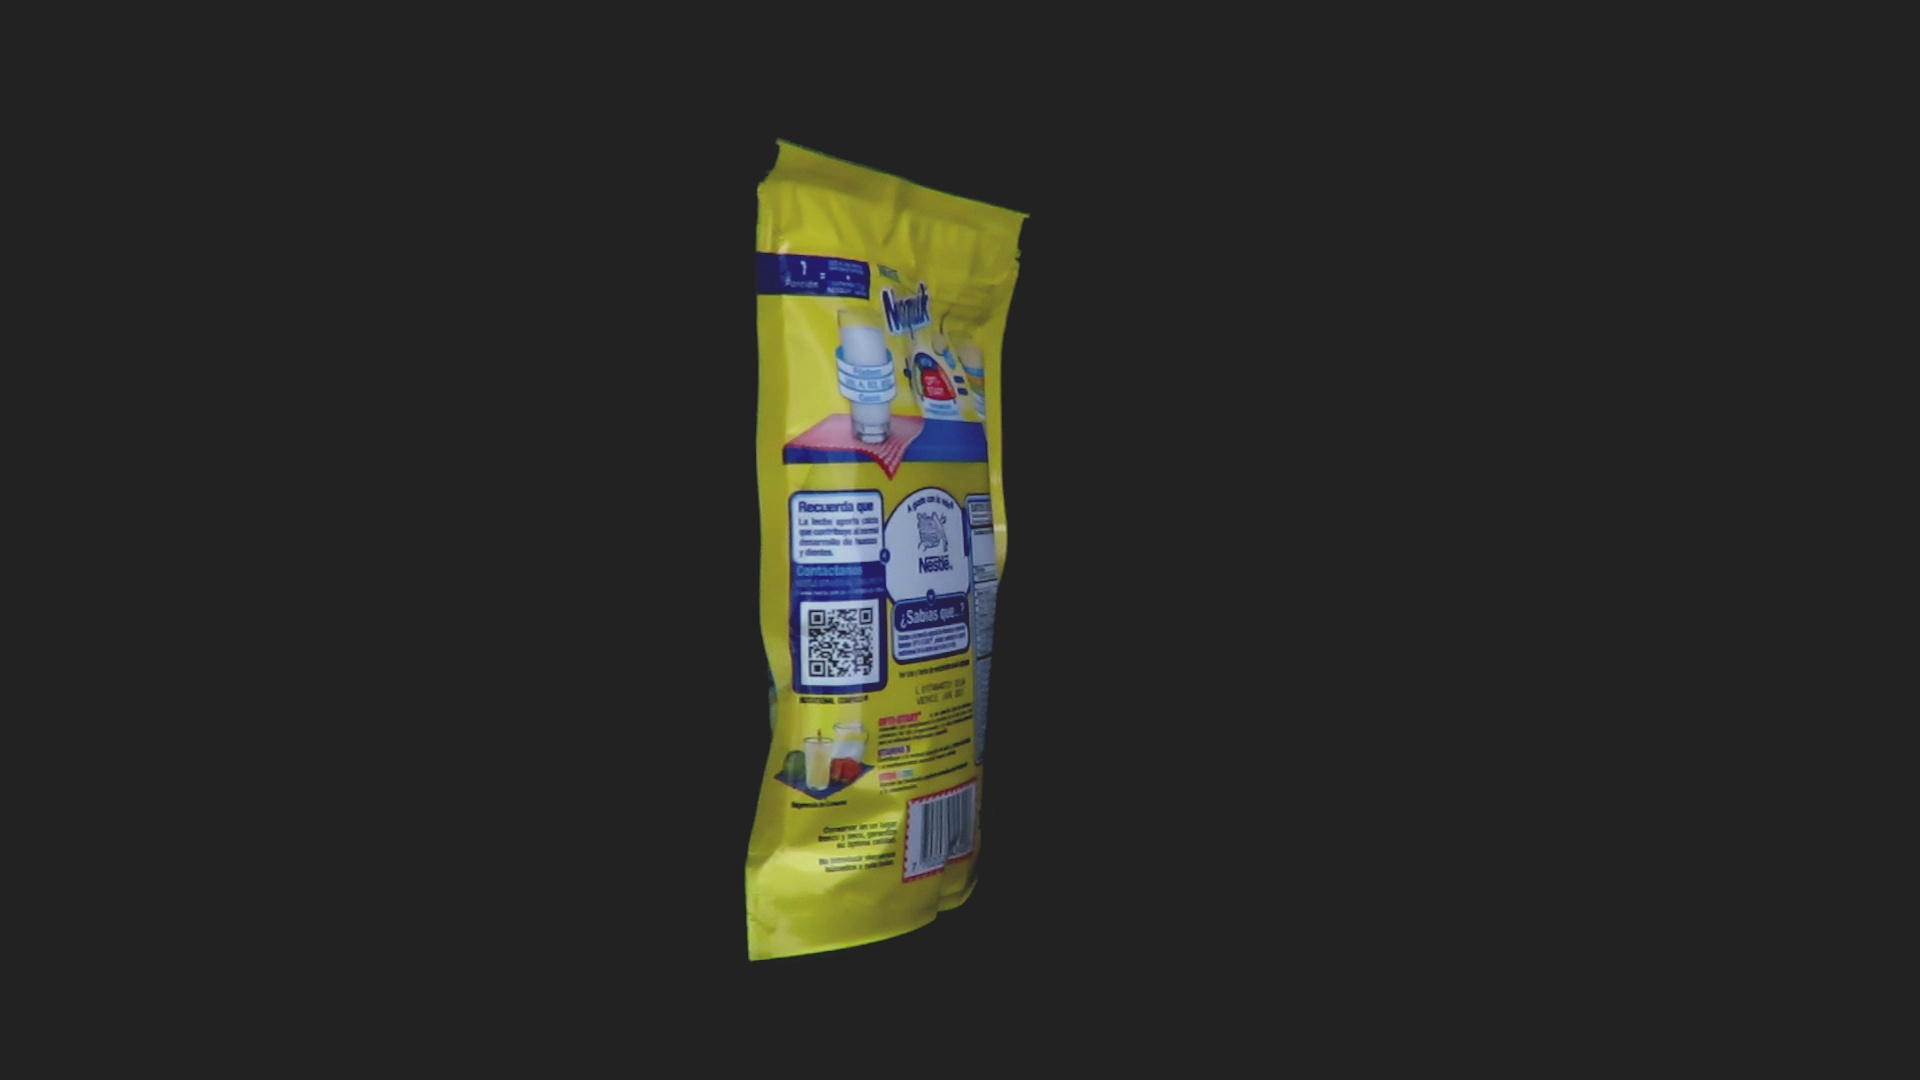COL0170306DYP20000: (740, 133, 1036, 967)
